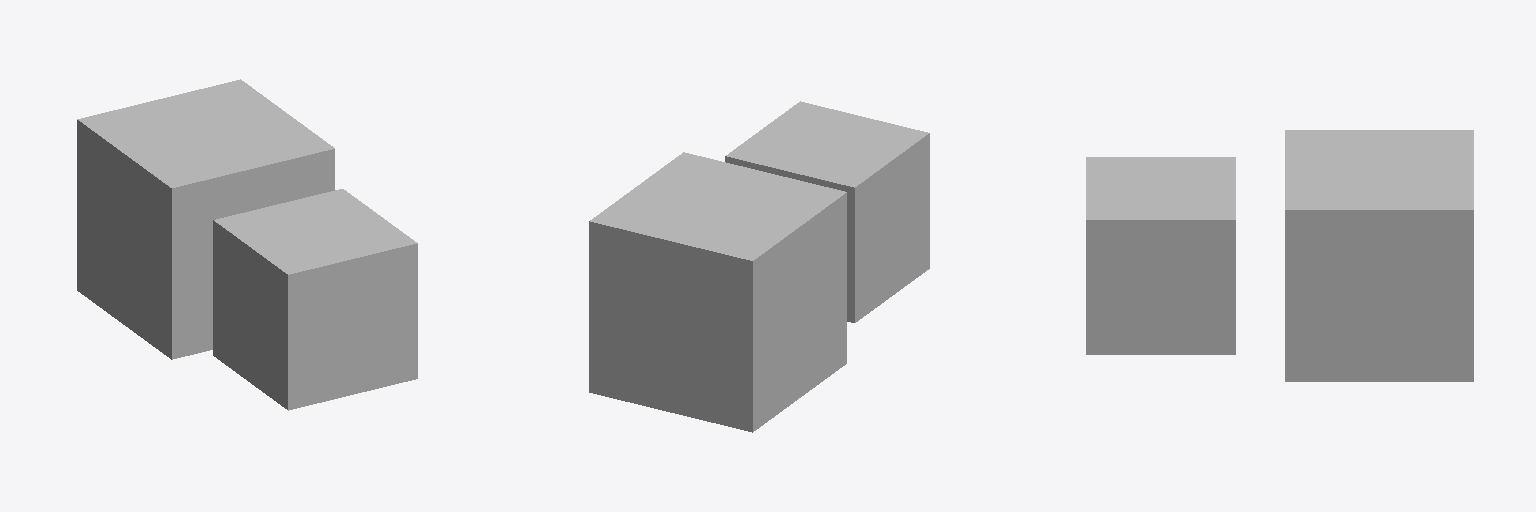
Rendered from twoObjects.obj.
3 renders of one model, left to right at view 1: azimuth 30°, elevation 25°; view 2: azimuth 150°, elevation 25°; view 3: azimuth 270°, elevation 25°, orthographic.
Parts seen in each view (by area): view 1: Cube.001, Cube; view 2: Cube.001, Cube; view 3: Cube.001, Cube.
Part boxes in pixels (left/top/right/bottom): Cube.001: left=77, top=79, right=334, bottom=359; Cube: left=213, top=189, right=417, bottom=410; Cube.001: left=589, top=152, right=846, bottom=432; Cube: left=725, top=101, right=929, bottom=322; Cube.001: left=1285, top=130, right=1473, bottom=381; Cube: left=1086, top=157, right=1235, bottom=354.
Size of the model in its own units: 2.52 by 2.52 by 5.18.